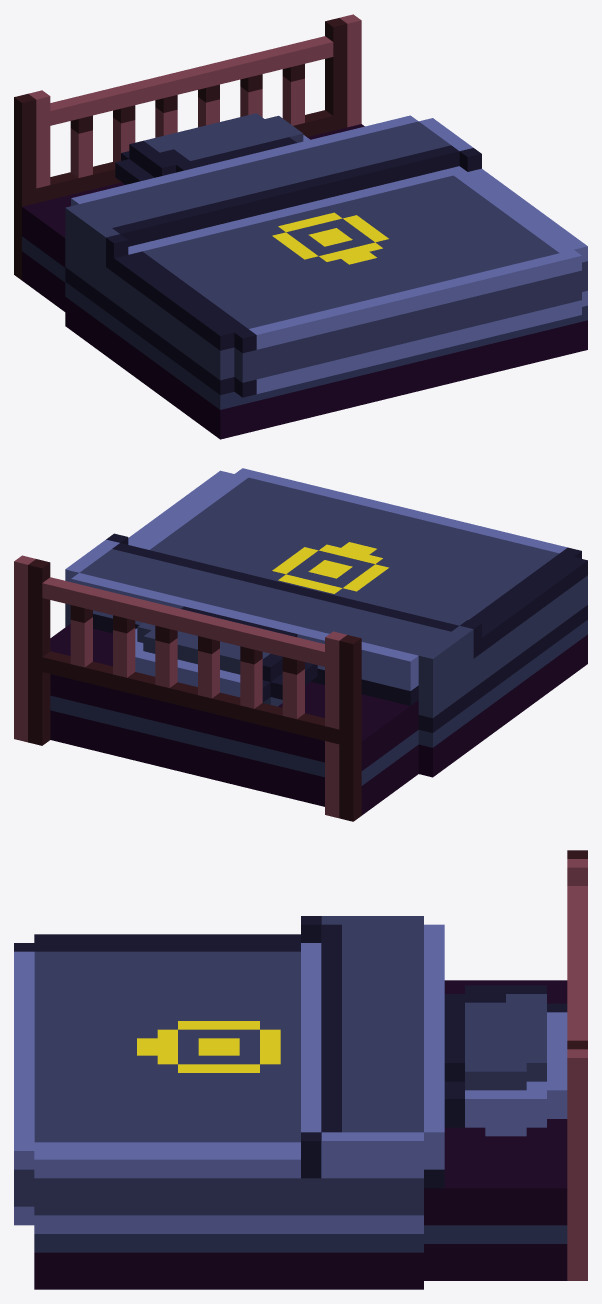
File: bed.obj
The picture shows the model from 3 angles, top to bottom: view 1: azimuth 30°, elevation 25°; view 2: azimuth 150°, elevation 25°; view 3: azimuth 270°, elevation 25°; orthographic projection. The views are drawn at different scales.
Bounding box in the file's own units: 2.6 × 1.2 × 2.8.
Materials: 1 (1 with a texture image).
